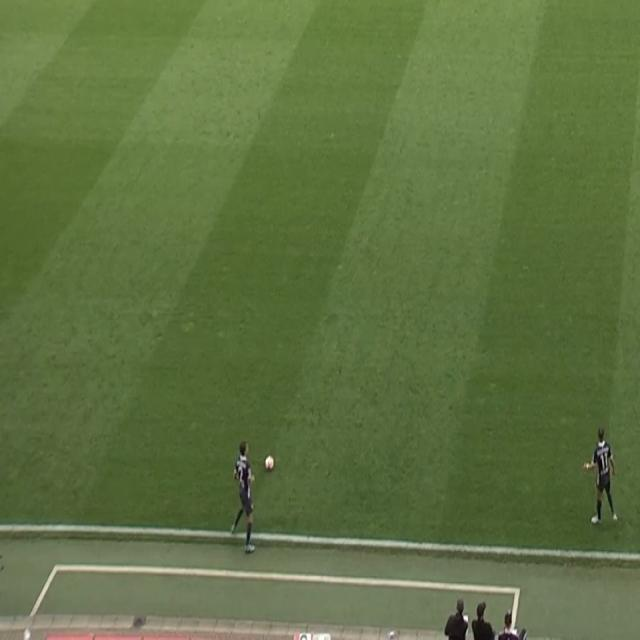ball: (264, 454, 275, 472)
